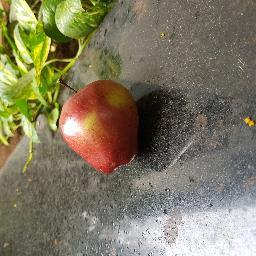Good_apple: (55, 77, 142, 174)
